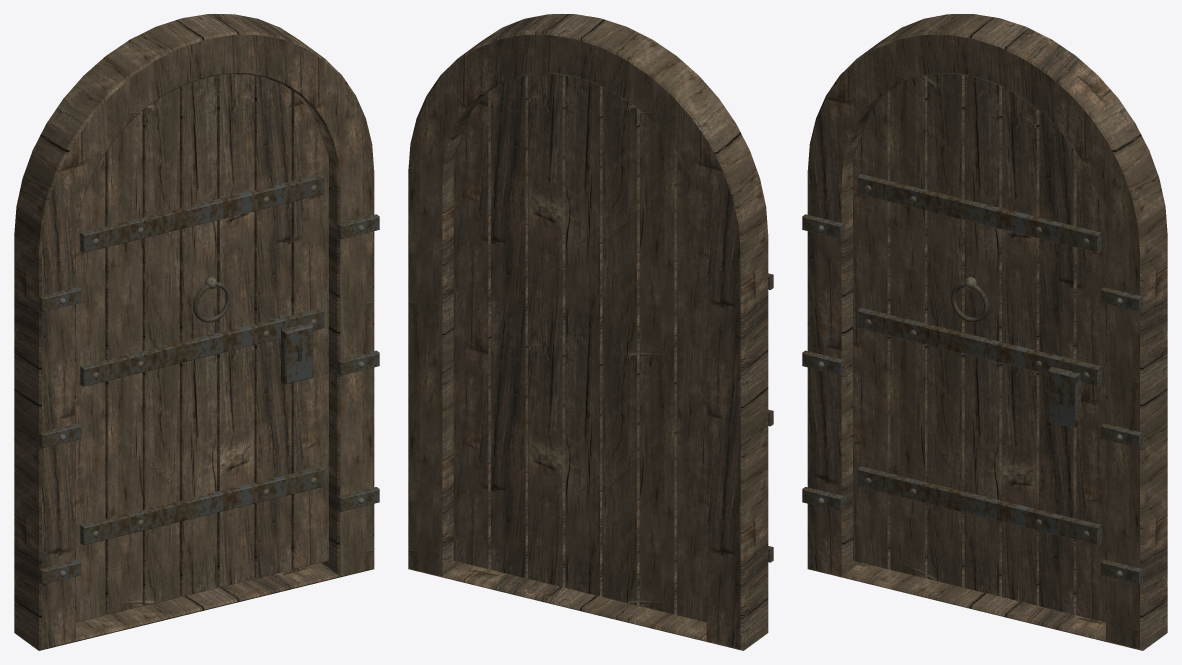
The model's file is door.glb.
3 views of the same model, side by side, from view 1: azimuth 30°, elevation 25°; view 2: azimuth 150°, elevation 25°; view 3: azimuth 330°, elevation 25° (orthographic).
Parts seen in each view (by area): view 1: DoorLeaf, DoorFrame, DoorLatch, DoorKnocker; view 2: DoorLeaf, DoorFrame; view 3: DoorLeaf, DoorFrame, DoorLatch, DoorKnocker.
Boxes of the visible parts, x1,y1,x2,y2 form: DoorLeaf: (76, 74, 328, 622); DoorFrame: (14, 14, 379, 650); DoorLatch: (281, 323, 313, 384); DoorKnocker: (193, 277, 230, 322); DoorLeaf: (453, 74, 706, 622); DoorFrame: (408, 14, 773, 650); DoorLeaf: (853, 74, 1105, 622); DoorFrame: (802, 14, 1167, 650); DoorLatch: (1048, 366, 1080, 428); DoorKnocker: (951, 277, 988, 322).
Bounding box in the file's own units: 1.43 × 2.32 × 0.2444.
4 materials, 3 textured.
